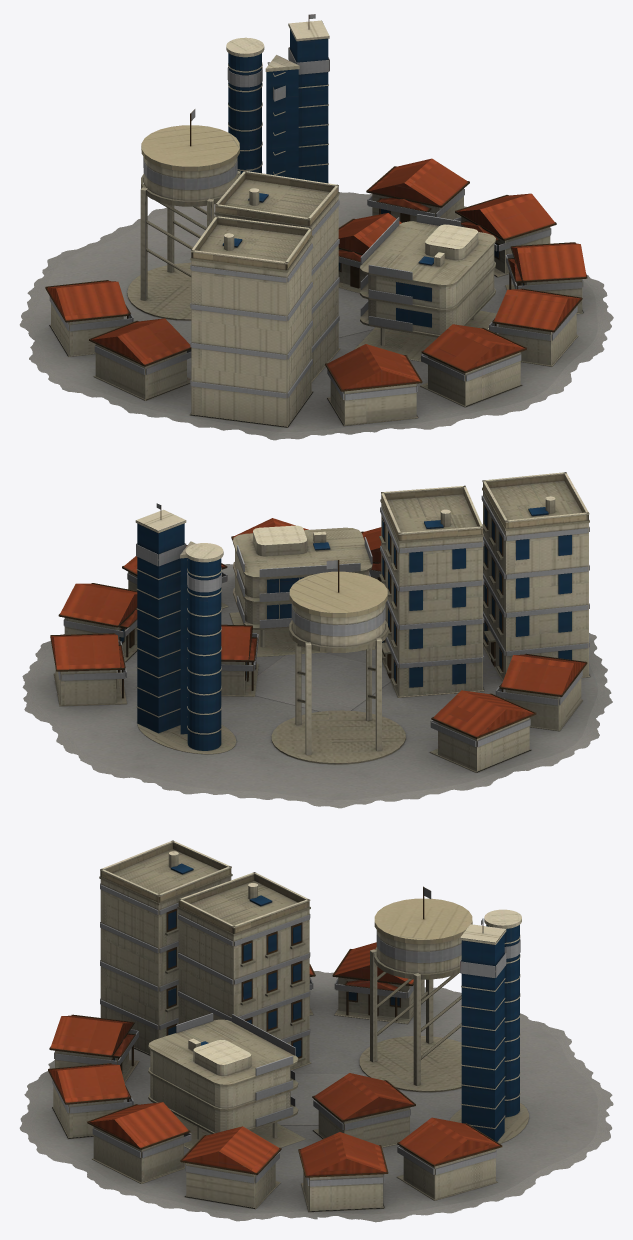
Rendered from modern-town-medium-b-israelite.glb.
3 renders of one model, top to bottom at view 1: azimuth 30°, elevation 25°; view 2: azimuth 150°, elevation 25°; view 3: azimuth 270°, elevation 25°, orthographic.
Parts seen in each view (by area): view 1: LOD0; view 2: LOD0; view 3: LOD0.
Boxes of the visible parts, box(x1,y1,x2,y2) form: LOD0: box(19, 14, 613, 440); LOD0: box(22, 472, 612, 808); LOD0: box(19, 840, 613, 1222).
Size of what is drawn, in the model's own units: 5.98 by 2.4 by 5.95.
3 materials, 3 textured.
